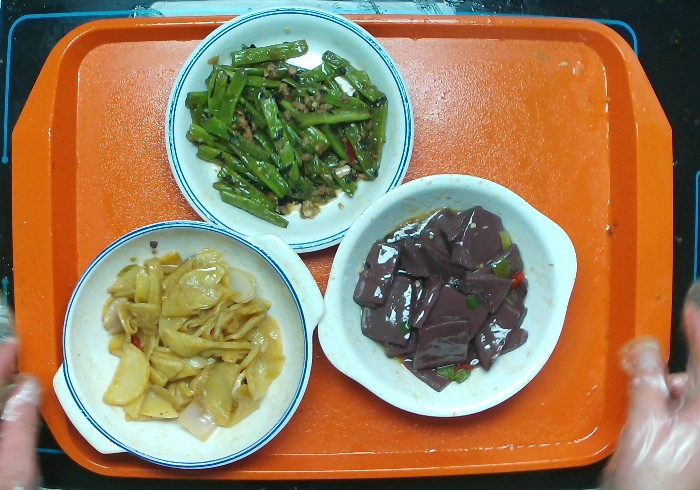HZYJPL-Dai_Er_Bai_Yuan_Wan: (314, 169, 584, 426)
HZYJPL-Lan_Bian_Dai_Er_Wan: (46, 212, 331, 472)
HZYJPL-Lan_Bian_Yuan_Die: (155, 2, 419, 264)
